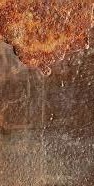Corrosion: (1, 1, 94, 76)
